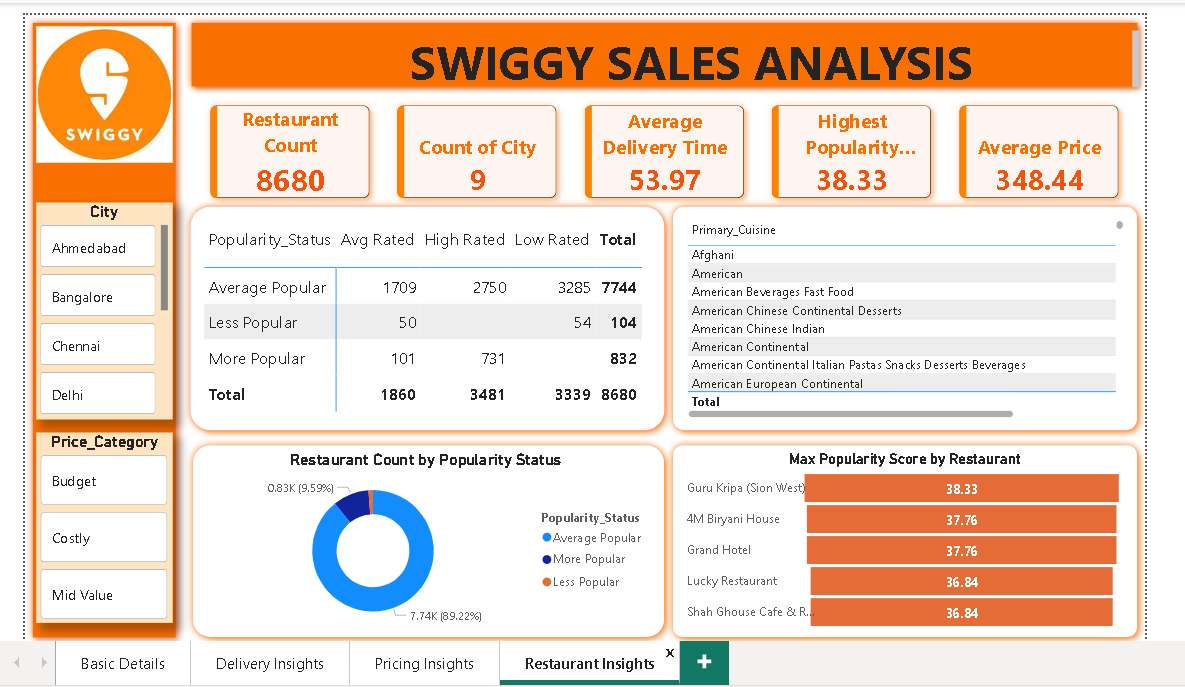

What the dashboard file says about the page in this screenshot:
{"tool":"powerbi","page":{"name":"Restaurant Insights","canvas":[1280,720],"ordinal":3},"visuals":[{"type":"cardVisual","fields":{"Data":["CountNonNull(public swiggy.Restaurant)","Count(public swiggy.City)","public swiggy.Avg_Del_time","public swiggy.Avg_Pop_Score","public swiggy.Avg_Price"]},"box":[181.3,73.1,1098.8,167],"z":0},{"type":"shape","box":[179.7,209.9,559.7,273.5],"z":1000},{"type":"shape","box":[182.9,483.4,556.5,236.9],"z":3000},{"type":"shape","box":[181.3,0,1098.8,90.6],"z":4000},{"type":"textbox","box":[181.3,12.7,1097.2,77.9],"z":5000},{"type":"shape","box":[0,0,181.3,720.3],"z":6000},{"type":"donutChart","title":"Restaurant Count by Popularity Status","fields":{"Y":["CountNonNull(public swiggy.Restaurant)"],"Category":["public swiggy.Popularity_Status"]},"box":[200.4,497.7,516.8,209.9],"z":7000},{"type":"image","box":[12.7,12.7,155.8,155.8],"z":8000},{"type":"shape","box":[731.5,209.9,548.6,273.5],"z":9000},{"type":"tableEx","title":"Top 7 Restuarants with highest popularity score ","fields":{"Values":["public swiggy.Primary_Cuisine","Avg(public swiggy.Avg_Ratings)"]},"box":[752.1,230.6,508.8,235.3],"z":10000},{"type":"advancedSlicerVisual","fields":{"Values":["public swiggy.City"]},"box":[12.7,214.7,155.8,248.1],"z":11000},{"type":"advancedSlicerVisual","fields":{"Values":["public swiggy.Price_Category"]},"box":[12.7,477,155.8,217.8],"z":12000},{"type":"pivotTable","fields":{"Columns":["public swiggy.Rating_Status"],"Rows":["public swiggy.Popularity_Status"],"Values":["CountNonNull(public swiggy.Restaurant)"]},"box":[200.4,230.6,516.8,232.2],"z":12001},{"type":"shape","box":[731.5,483.4,548.6,236.9],"z":12002},{"type":"funnel","title":"Max Popularity Score by Restaurant","fields":{"Category":["public swiggy.Restaurant"],"Y":["public swiggy.Max_Pop_Score"]},"box":[752.1,497.7,508.8,209.9],"z":12003}]}

Visuals, with their boxes on the page's 1280x720 design canvas (x1, y1, x2, y2). These are canvas units, not pixel positions in the 1185x687 screenshot, which may show the page scaled, cropped or inside an application window:
cardVisual - CountNonNull(public swiggy.Restaurant) x Count(public swiggy.City): box=[181, 73, 1280, 240]
shape: box=[180, 210, 739, 483]
shape: box=[183, 483, 739, 720]
shape: box=[181, 0, 1280, 91]
textbox: box=[181, 13, 1278, 91]
shape: box=[0, 0, 181, 720]
"Restaurant Count by Popularity Status" donutChart: box=[200, 498, 717, 708]
image: box=[13, 13, 168, 168]
shape: box=[732, 210, 1280, 483]
"Top 7 Restuarants with highest popularity score " tableEx: box=[752, 231, 1261, 466]
advancedSlicerVisual - public swiggy.City: box=[13, 215, 168, 463]
advancedSlicerVisual - public swiggy.Price_Category: box=[13, 477, 168, 695]
pivotTable - public swiggy.Rating_Status x public swiggy.Popularity_Status: box=[200, 231, 717, 463]
shape: box=[732, 483, 1280, 720]
"Max Popularity Score by Restaurant" funnel: box=[752, 498, 1261, 708]
